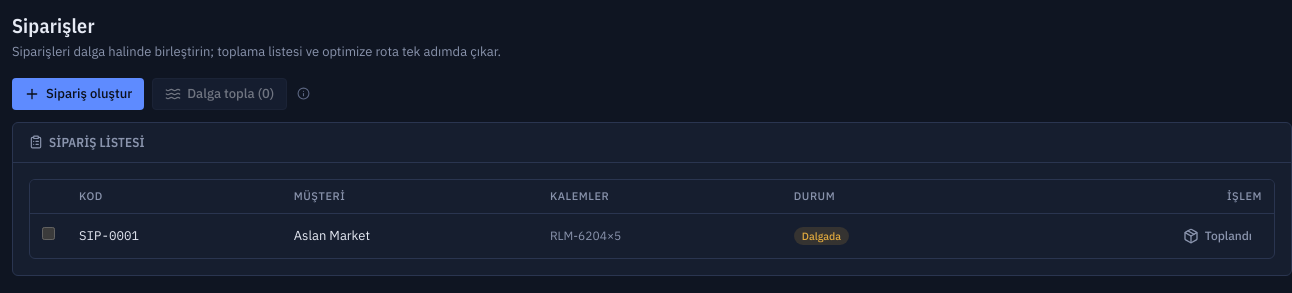
Test: OrdersPage › dalgaya alınmış sipariş 'Toplandı' ile kapatılır
Expected: the text "Dalgada" is shown, [794,227,849,245]
Click the button "Toplandı".
click(1217, 236)  # box [1173,222,1262,250]
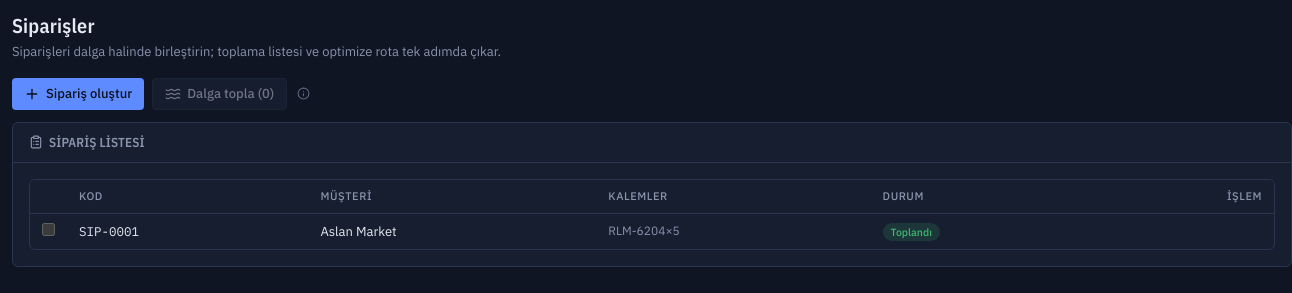
Expected: the text "Toplandı" is shown, [883,222,940,240]
